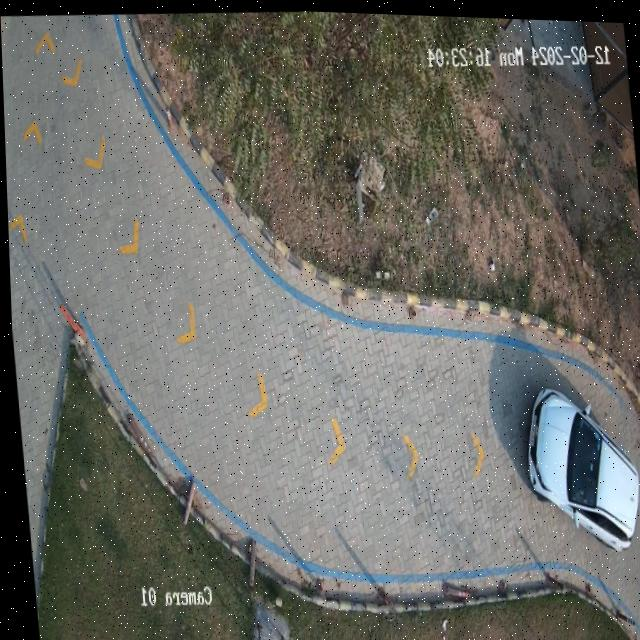car: (523, 383, 635, 549)
